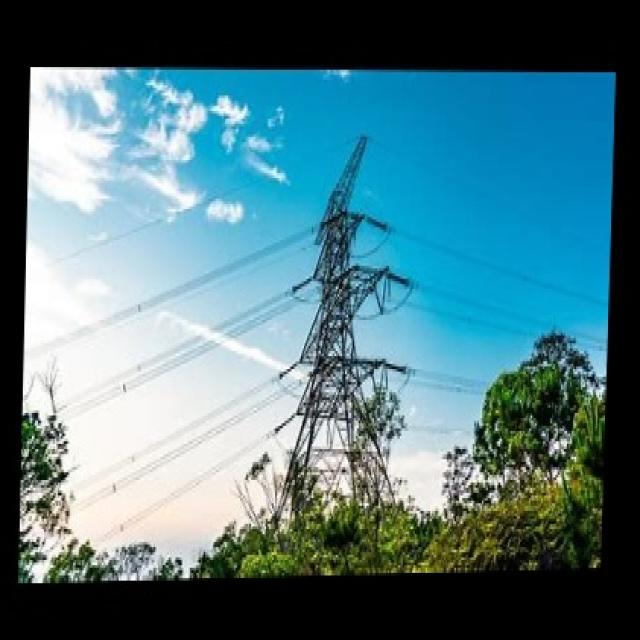utility poles: (468, 291, 588, 469), (334, 352, 424, 522)
